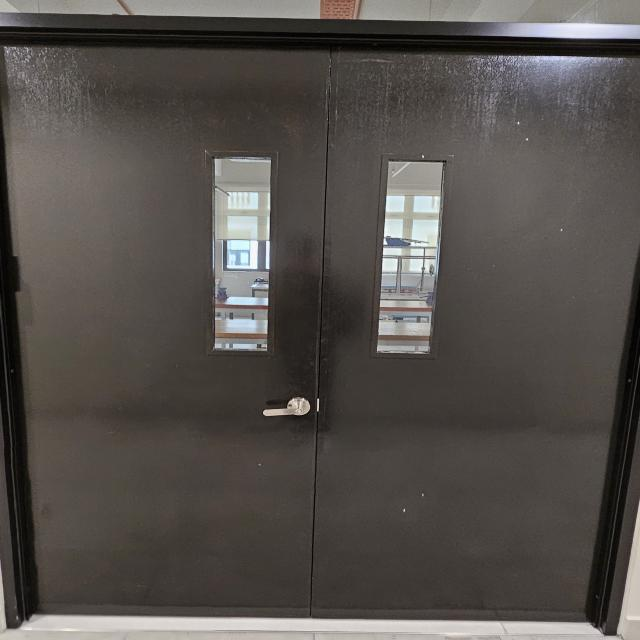door: (3, 23, 638, 630)
